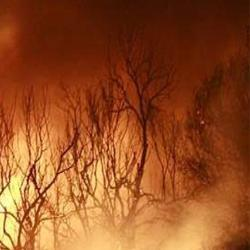fire: (1, 177, 26, 243)
